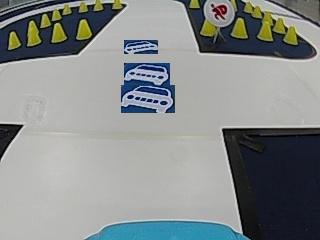thief: (202, 0, 236, 25)
